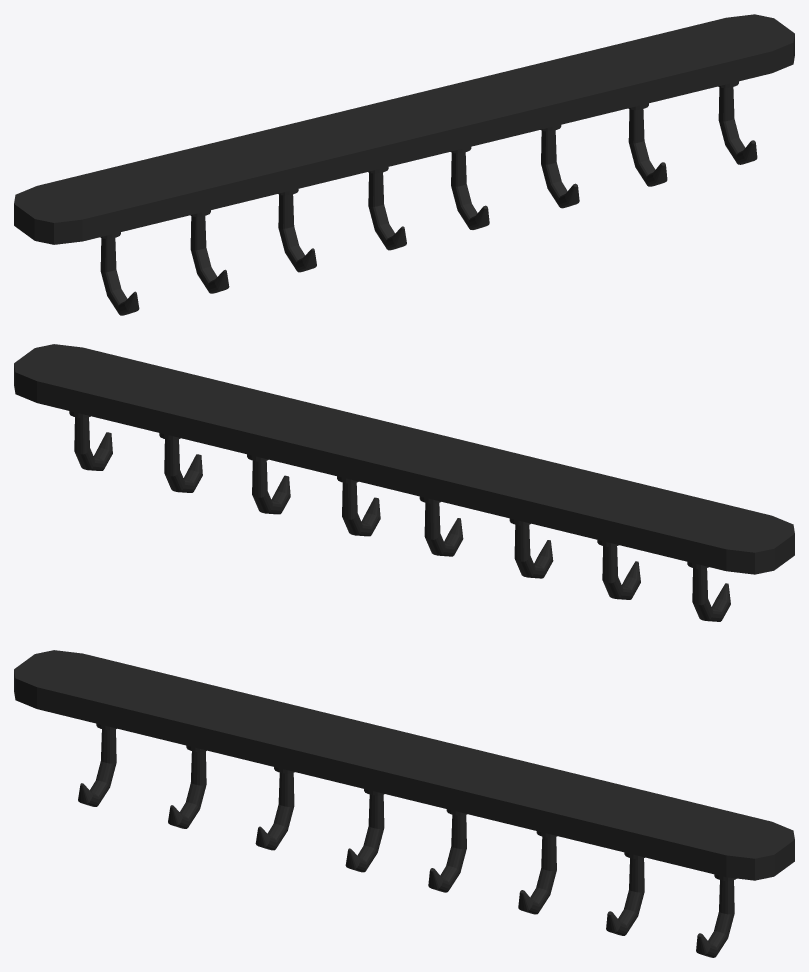
The model's file is Shelf_4.fbx.
The picture shows the model from 3 angles, top to bottom: view 1: azimuth 30°, elevation 25°; view 2: azimuth 150°, elevation 25°; view 3: azimuth 330°, elevation 25°; orthographic projection.
Visible parts, largest first — view 1: Shelf_4; view 2: Shelf_4; view 3: Shelf_4.
Boxes of the visible parts, left/top/right/bottom form: Shelf_4: left=14, top=14, right=794, bottom=315; Shelf_4: left=14, top=344, right=794, bottom=621; Shelf_4: left=14, top=650, right=794, bottom=957.
Bounding box in the file's own units: 0.7847 × 0.1111 × 0.0907.
